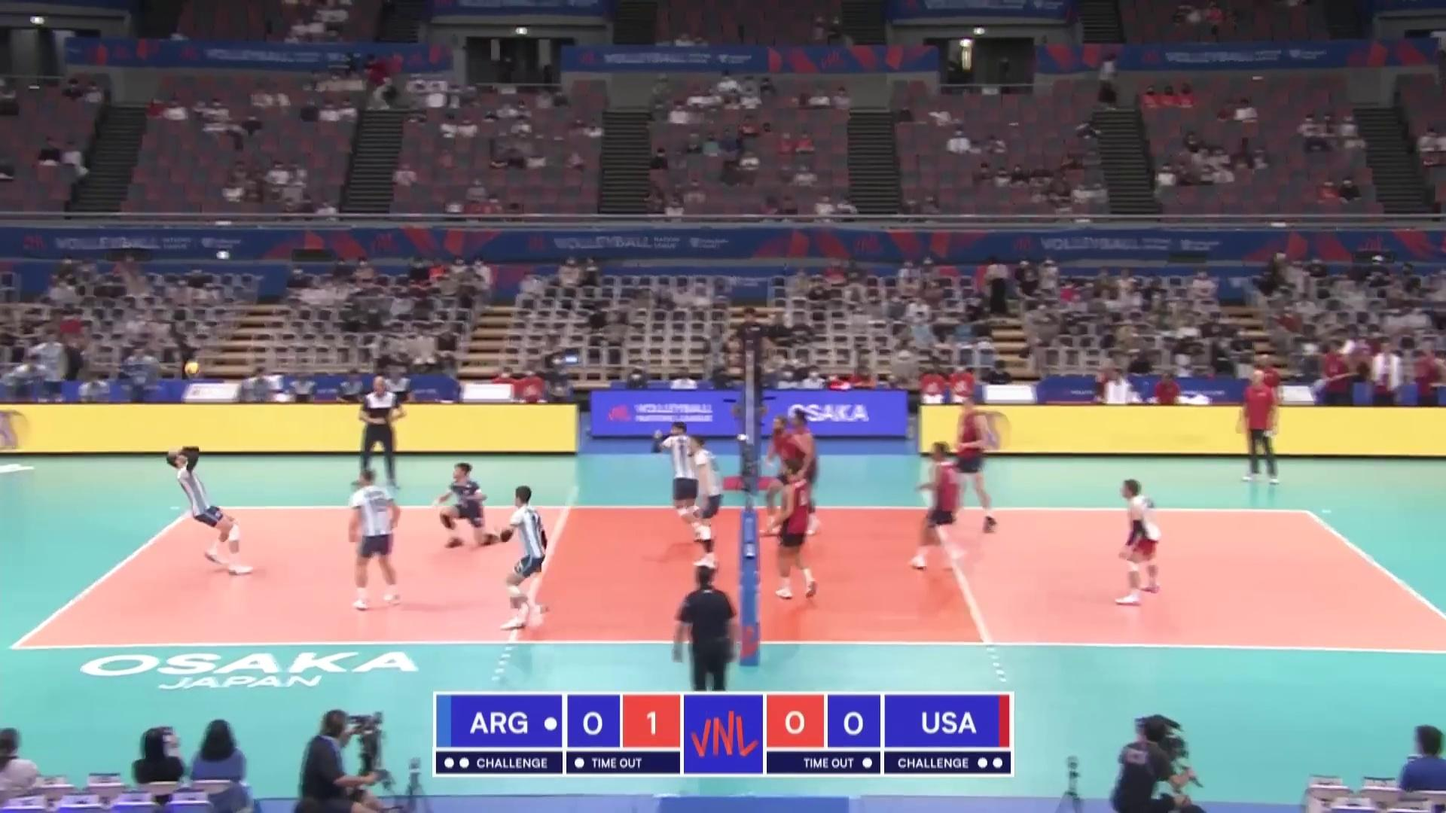player: (165, 444, 252, 578), (344, 468, 402, 607), (499, 484, 552, 629), (651, 420, 714, 540), (944, 394, 998, 530), (907, 441, 963, 571), (435, 463, 506, 549), (773, 458, 814, 605), (1115, 479, 1162, 603), (686, 435, 723, 571), (766, 414, 807, 535), (784, 411, 822, 535)
refree: (670, 570, 737, 693), (737, 307, 766, 407)
